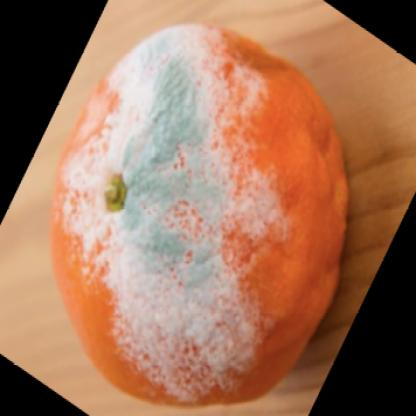rotten: (50, 24, 350, 410)
